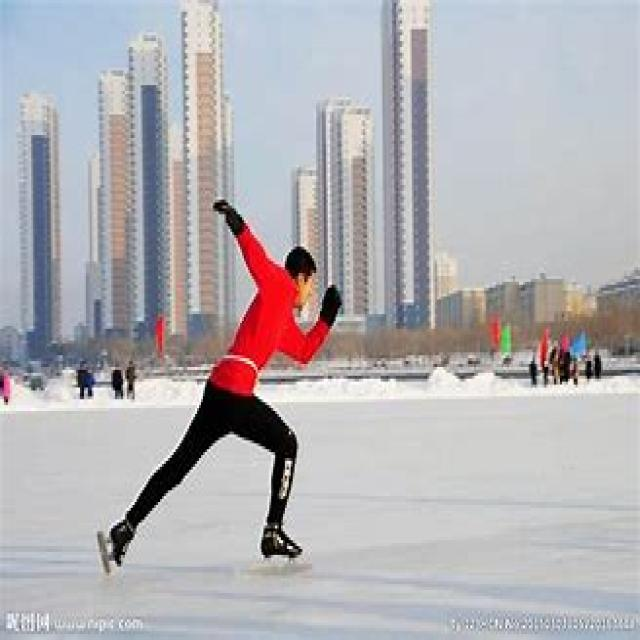stand: (116, 219, 321, 569)
